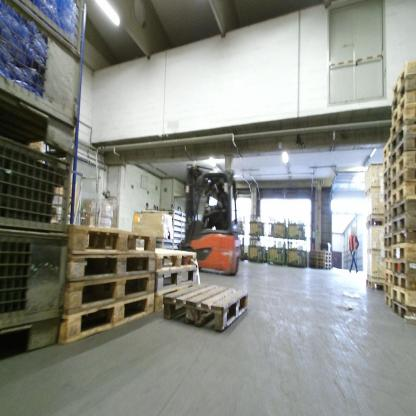forklift: (172, 159, 247, 282)
pallet: (57, 298, 157, 351), (55, 270, 157, 316), (166, 277, 253, 330), (71, 218, 158, 258), (67, 252, 157, 283), (149, 244, 198, 274), (152, 266, 198, 297), (390, 62, 416, 101), (389, 79, 415, 116), (392, 90, 414, 130), (391, 150, 415, 184), (390, 106, 415, 137), (390, 119, 414, 151), (390, 139, 415, 166), (391, 183, 415, 209), (392, 170, 414, 197), (393, 301, 415, 323), (392, 288, 416, 308), (389, 244, 414, 261), (392, 198, 414, 217), (393, 256, 415, 274), (392, 230, 415, 247), (392, 217, 414, 234), (393, 274, 415, 291), (156, 284, 170, 310), (365, 278, 386, 293), (365, 218, 388, 228), (383, 294, 394, 312), (385, 269, 397, 285), (383, 188, 392, 209), (382, 155, 392, 172), (382, 177, 393, 192), (385, 281, 394, 299), (384, 209, 392, 229), (383, 137, 391, 157), (386, 260, 396, 274), (383, 169, 392, 184), (383, 236, 393, 248), (384, 201, 393, 213), (317, 253, 332, 259), (383, 250, 394, 258), (384, 223, 392, 234), (316, 266, 332, 271), (316, 262, 332, 266), (316, 258, 330, 262), (316, 251, 332, 254), (415, 74, 416, 77)
stillage: (2, 125, 80, 359), (1, 0, 91, 160), (286, 240, 308, 269), (286, 216, 309, 243), (264, 238, 284, 266), (247, 237, 266, 264), (269, 213, 288, 240), (247, 215, 267, 238), (237, 213, 247, 237), (237, 234, 246, 259)
